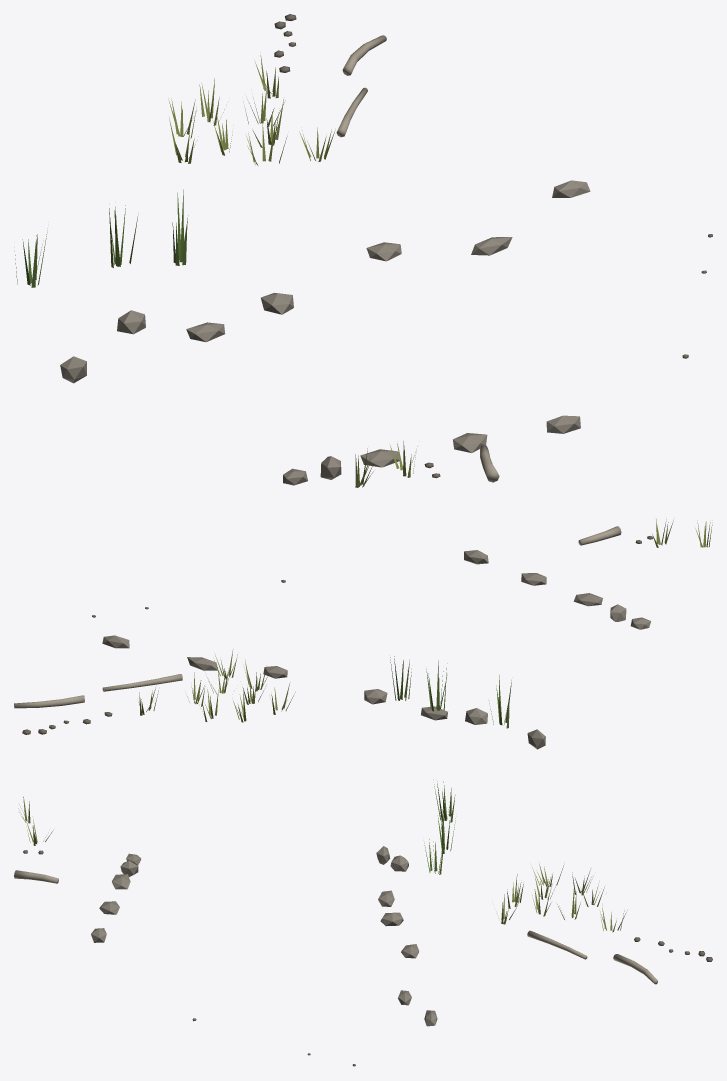
File: river_mouth_center.glb
3 views of the same model, one above another, from view 1: azimuth 30°, elevation 25°; view 2: azimuth 150°, elevation 25°; view 3: azimuth 270°, elevation 25° (orthographic). The views are drawn at different scales.
Visible parts, largest first — view 1: river_mouth_center_lod0; view 2: river_mouth_center_lod0; view 3: river_mouth_center_lod0.
Part boxes in pixels (box(x1,y1,x2,y2)): river_mouth_center_lod0: box(14, 14, 712, 487); river_mouth_center_lod0: box(14, 519, 712, 749); river_mouth_center_lod0: box(14, 781, 712, 1066).
Size of what is drawn, in the model's own units: 15.64 by 3.1 by 21.6.
